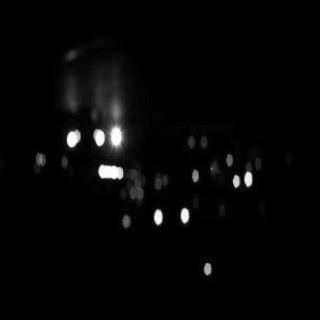other: (62, 123, 84, 153), (96, 161, 126, 183), (93, 126, 105, 146)
